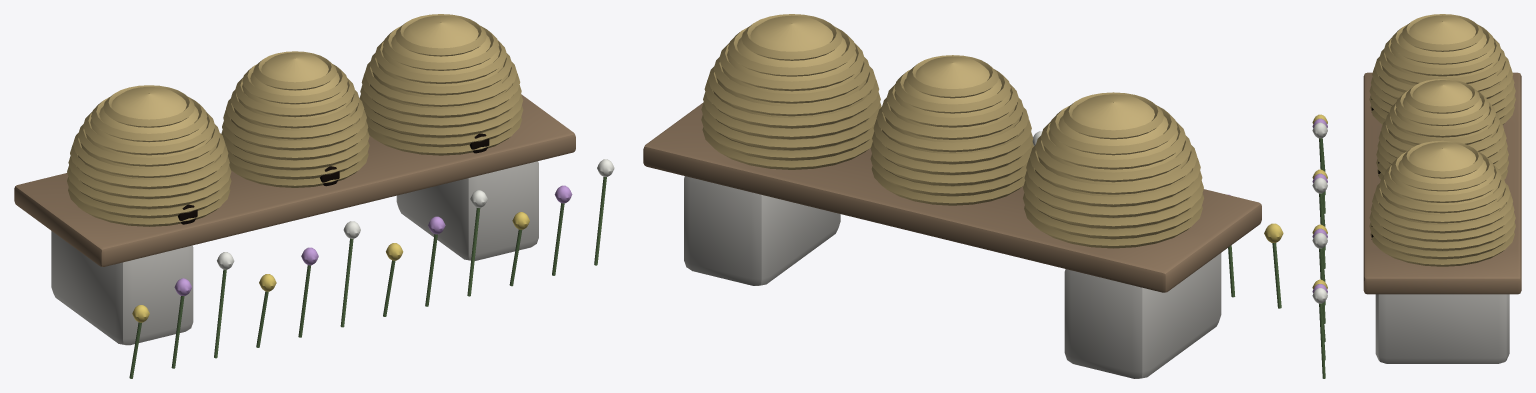
The model's file is obj_kit_beehive.glb.
3 views of the same model, side by side, from view 1: azimuth 30°, elevation 25°; view 2: azimuth 150°, elevation 25°; view 3: azimuth 270°, elevation 25° (orthographic). The views are drawn at different scales.
Parts seen in each view (by area): view 1: Cube.002, Cube, Cube.001, skep.002, skep, skep.001, Torus.002, Torus.004, Torus.024, Torus.003, Torus.023, Torus.022 (+24 smaller); view 2: Cube.002, Cube, Cube.001, skep, skep.002, skep.001, Torus.002, Torus.004, Torus.003, Torus.024, Torus.022, Torus.023 (+24 smaller); view 3: Cube.002, Cube.001, skep.002, skep, skep.001, Torus.022, Torus.024, Torus.023, Torus.025, Torus.021, Torus.026, Torus.020 (+26 smaller).
Boxes of the visible parts, x1=… form: Cube.002: x1=14, y1=94, x2=575, y2=266; Cube: x1=51, y1=231, x2=193, y2=345; Cube.001: x1=396, y1=161, x2=538, y2=260; skep.002: x1=369, y1=15, x2=512, y2=138; skep: x1=77, y1=87, x2=220, y2=209; skep.001: x1=231, y1=52, x2=359, y2=170; Torus.002: x1=67, y1=165, x2=231, y2=208; Torus.004: x1=70, y1=144, x2=228, y2=189; Torus.024: x1=361, y1=73, x2=520, y2=117; Torus.003: x1=68, y1=156, x2=229, y2=198; Torus.023: x1=360, y1=85, x2=521, y2=127; Torus.022: x1=359, y1=94, x2=523, y2=137; Cube.002: x1=643, y1=102, x2=1261, y2=292; Cube: x1=1064, y1=253, x2=1221, y2=378; Cube.001: x1=684, y1=176, x2=840, y2=285; skep: x1=1035, y1=94, x2=1192, y2=229; skep.002: x1=713, y1=15, x2=870, y2=150; skep.001: x1=882, y1=56, x2=1023, y2=186; Torus.002: x1=1023, y1=181, x2=1203, y2=228; Torus.004: x1=1026, y1=158, x2=1200, y2=206; Torus.003: x1=1024, y1=170, x2=1202, y2=217; Torus.024: x1=704, y1=79, x2=879, y2=128; Torus.022: x1=701, y1=102, x2=881, y2=150; Torus.023: x1=703, y1=92, x2=880, y2=139; Cube.002: x1=1363, y1=72, x2=1521, y2=294; Cube.001: x1=1375, y1=294, x2=1509, y2=363; skep.002: x1=1379, y1=142, x2=1505, y2=251; skep: x1=1379, y1=15, x2=1507, y2=113; skep.001: x1=1385, y1=80, x2=1499, y2=164; Torus.022: x1=1369, y1=212, x2=1515, y2=250; Torus.024: x1=1372, y1=193, x2=1512, y2=233; Torus.023: x1=1370, y1=204, x2=1514, y2=241; Torus.025: x1=1375, y1=183, x2=1510, y2=223; Torus.021: x1=1369, y1=222, x2=1515, y2=259; Torus.026: x1=1379, y1=175, x2=1505, y2=213; Torus.020: x1=1370, y1=232, x2=1514, y2=266.
Size of the model in its own units: 1.27 by 0.5356 by 0.53.
